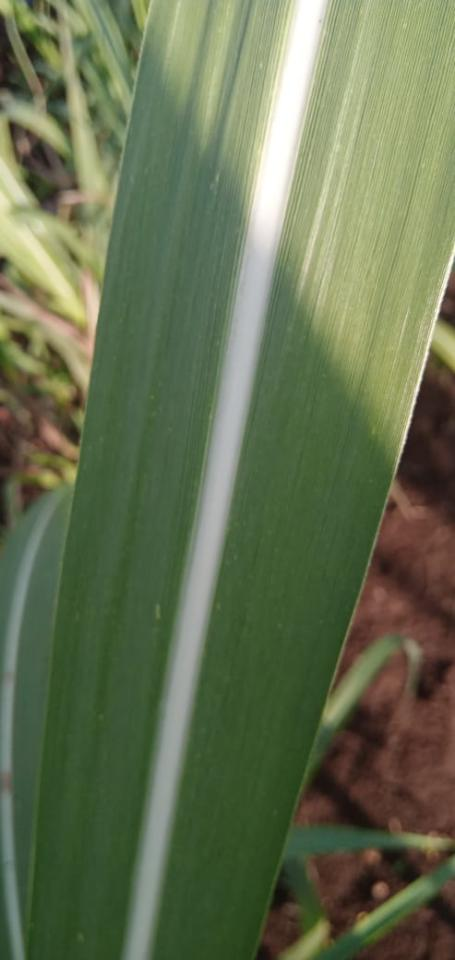Healthy: (149, 0, 454, 959), (30, 0, 295, 959), (11, 486, 75, 956)
